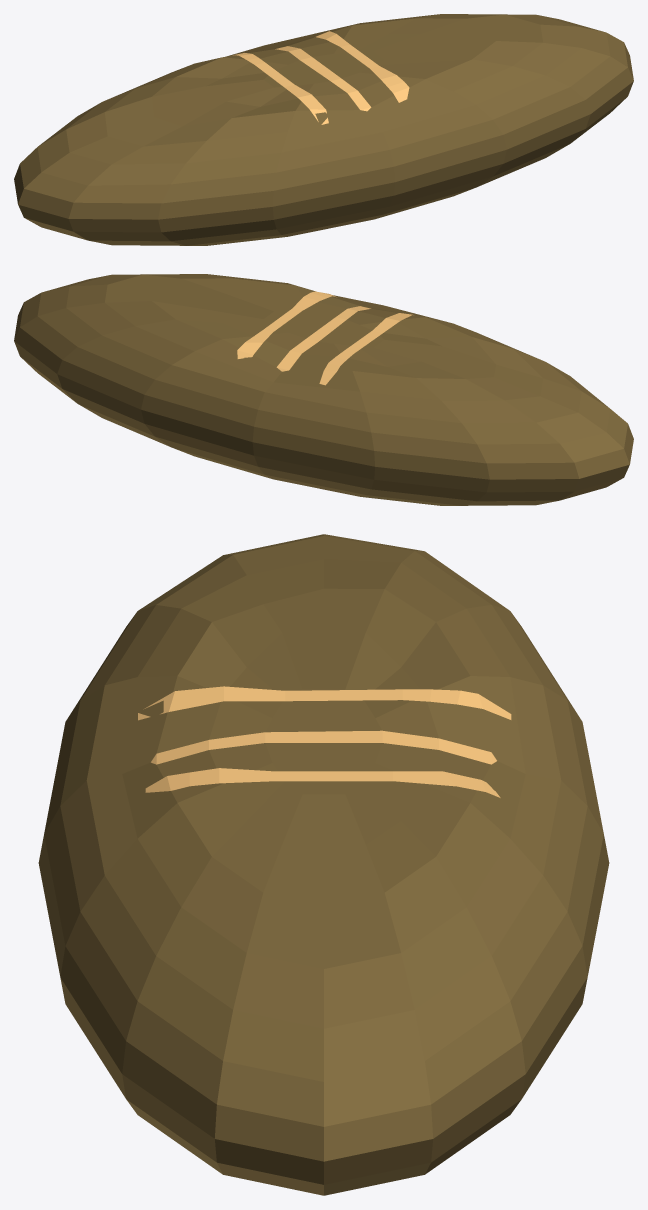
Rendered from bread2.fbx.
3 renders of one model, top to bottom at view 1: azimuth 30°, elevation 25°; view 2: azimuth 150°, elevation 25°; view 3: azimuth 270°, elevation 25°, orthographic. The views are drawn at different scales.
Parts seen in each view (by area): view 1: Sphere; view 2: Sphere; view 3: Sphere.
Boxes of the visible parts, box(x1,y1,x2,y2) form: Sphere: box(14, 14, 633, 245); Sphere: box(14, 274, 633, 505); Sphere: box(38, 534, 609, 1195).
Bounding box in the file's own units: 256 × 54.88 × 103.
